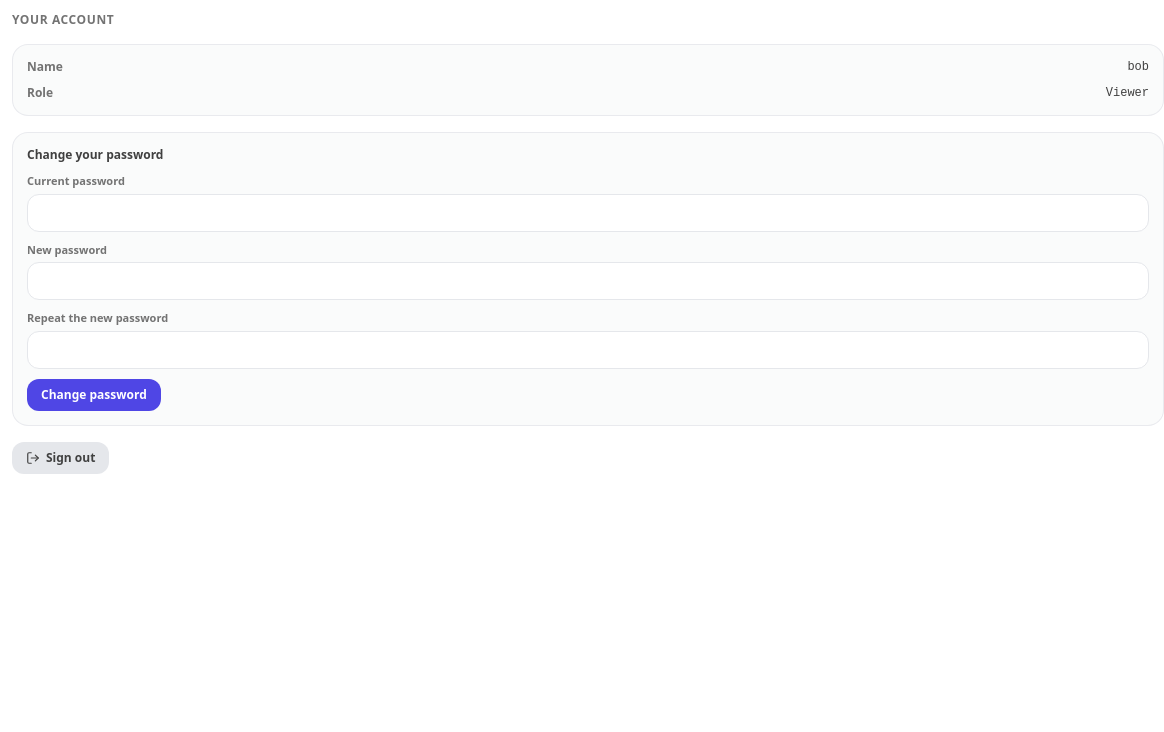
Scenario: AccountSection › checks before asking the server › blocks the request when the two new passwords differ
In the password field labelled "Current password": (588, 212) [27,194,1149,232], type "old-pass-1"
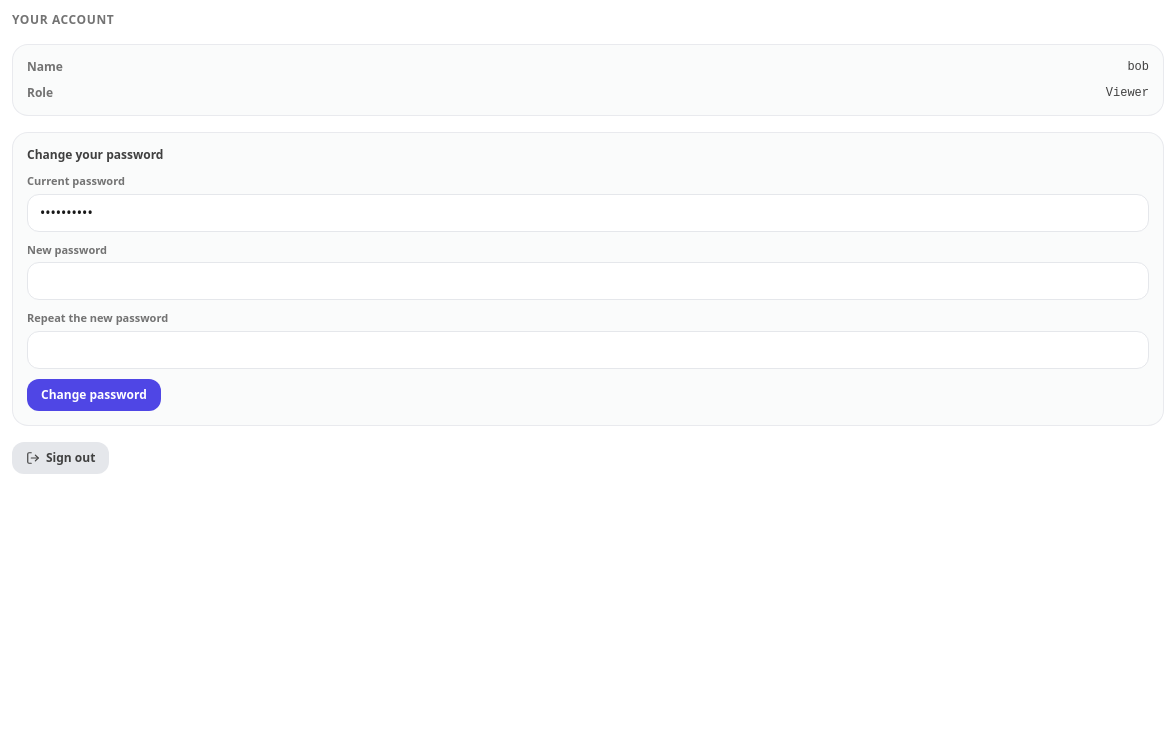
In the password field labelled "New password": (588, 281) [27,262,1149,300], type "new-password-1"
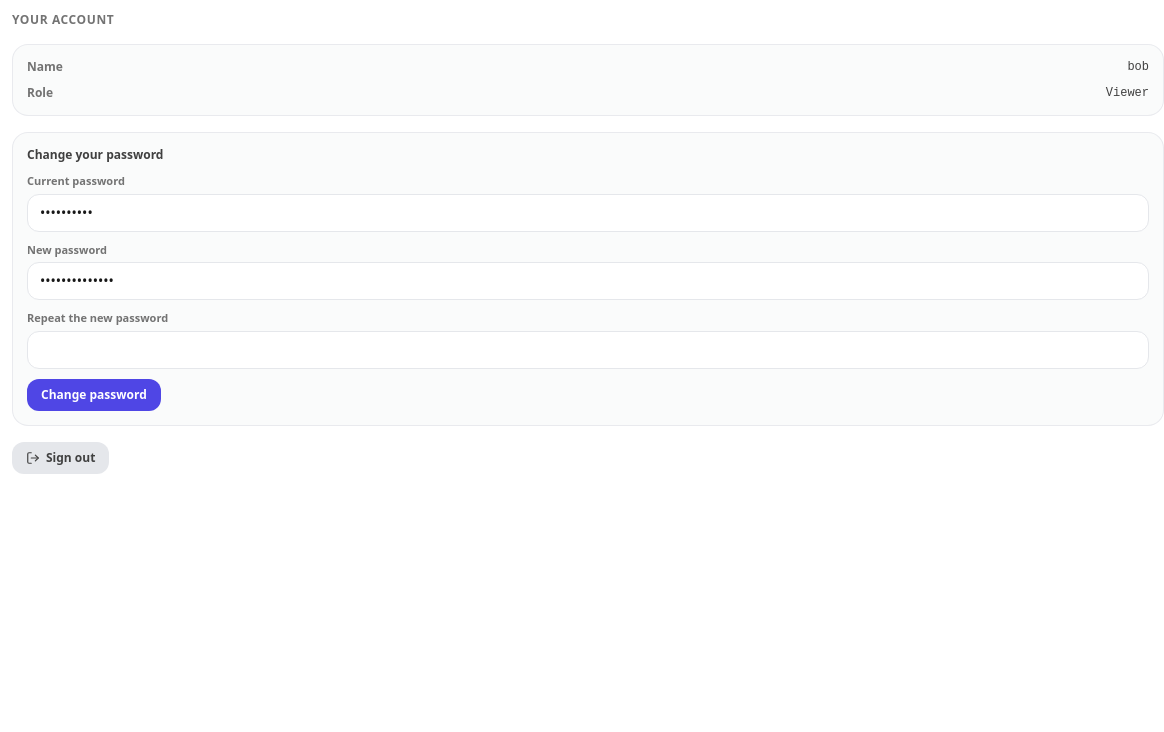
In the password field labelled "Repeat the new password": (588, 350) [27,330,1149,368], type "new-password-2"
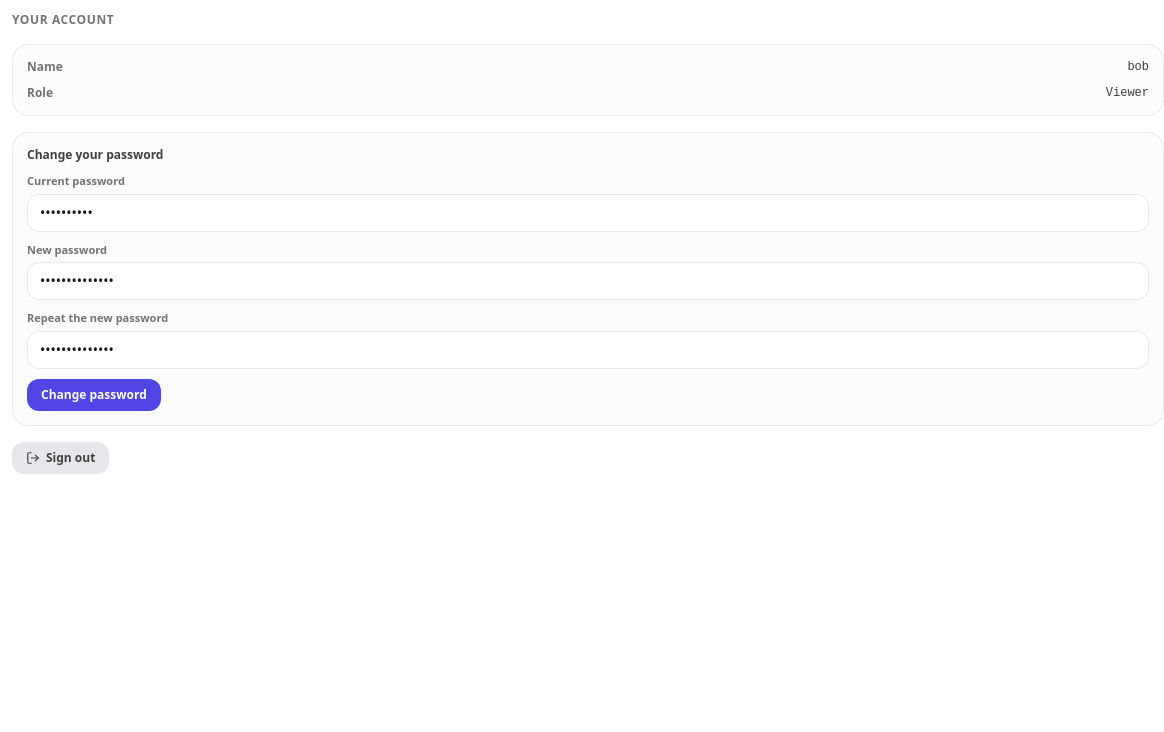
Click the button "Change password": (94, 394) [27,378,161,410]
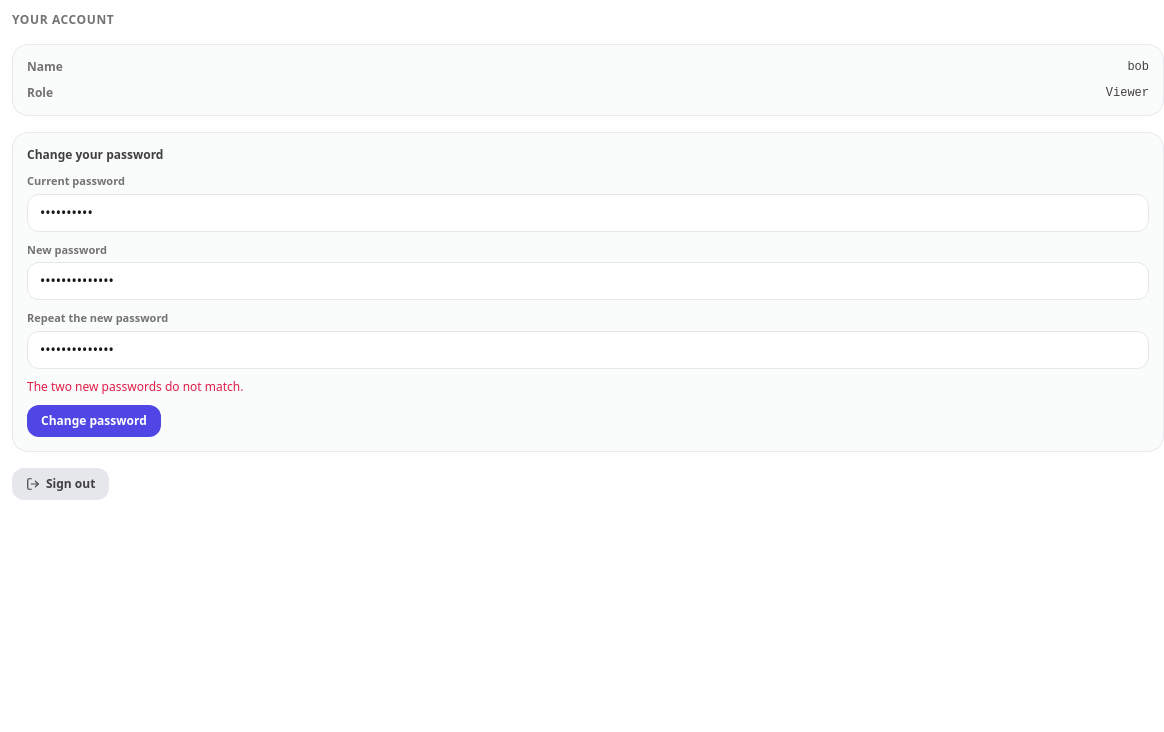
Check: the message reads "The two new passwords do not match.", box [27,378,244,394]
